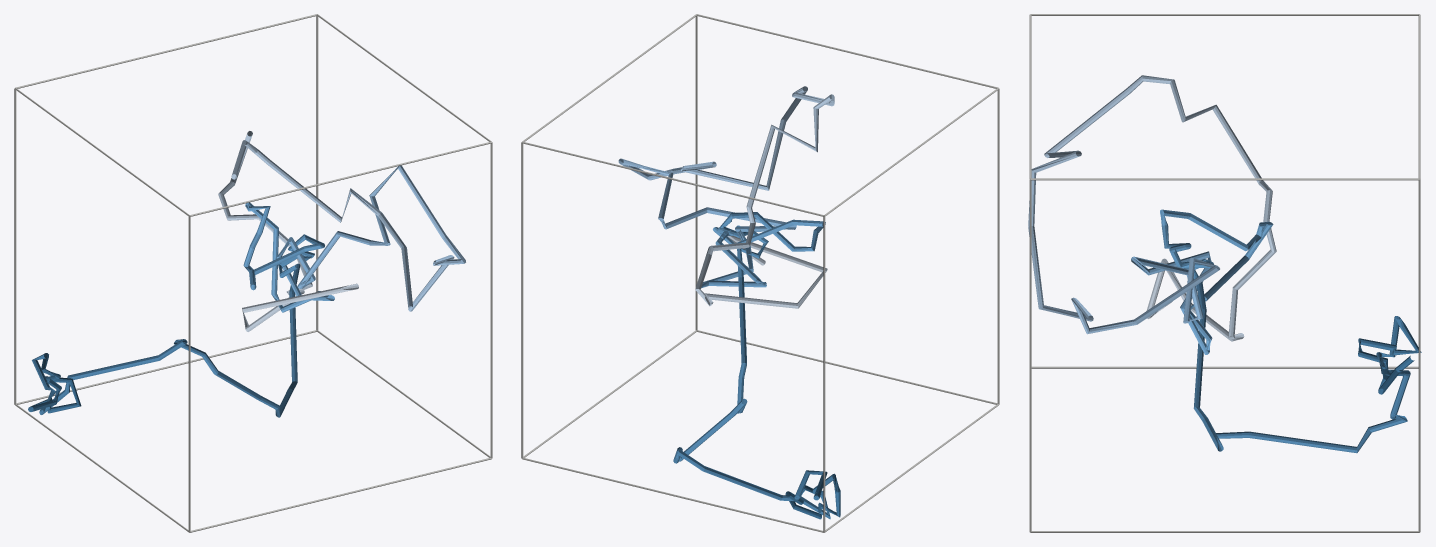
3 views of the same model, side by side, from view 1: azimuth 30°, elevation 25°; view 2: azimuth 150°, elevation 25°; view 3: azimuth 270°, elevation 25° (orthographic). The views are drawn at different scales.
Visible parts, largest first — view 1: geometry_0, geometry_1; view 2: geometry_0, geometry_1; view 3: geometry_0, geometry_1.
Boxes of the visible parts, left/top/right/bottom form: geometry_0: left=28, top=131, right=465, bottom=417; geometry_1: left=14, top=14, right=492, bottom=532; geometry_0: left=618, top=86, right=840, bottom=519; geometry_1: left=521, top=14, right=999, bottom=532; geometry_0: left=1028, top=75, right=1421, bottom=453; geometry_1: left=1029, top=14, right=1420, bottom=532.
Bounding box in the file's own units: 0.3037 × 0.3047 × 0.3036.
